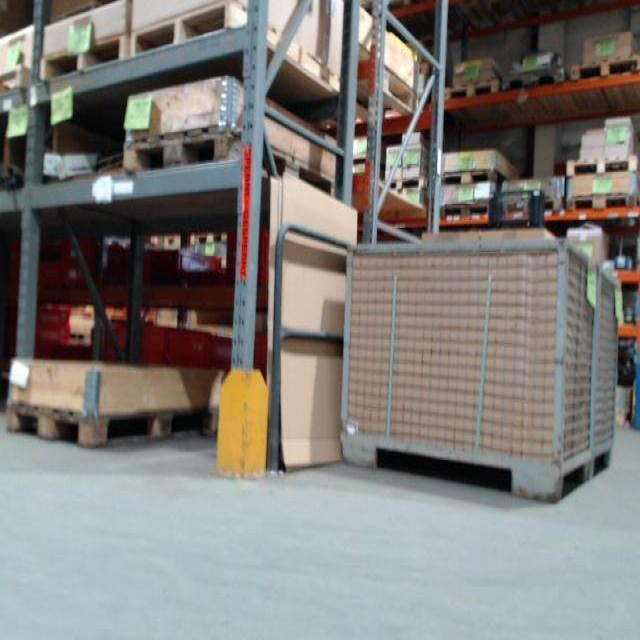pallet: (127, 0, 339, 93), (127, 125, 335, 200), (2, 397, 216, 446), (38, 32, 134, 79), (569, 52, 640, 82), (564, 153, 640, 180), (503, 64, 566, 92), (567, 192, 639, 213), (441, 164, 504, 188), (442, 77, 498, 103), (437, 199, 492, 219), (501, 198, 564, 215), (383, 174, 428, 190), (193, 232, 228, 245)
stillage: (339, 226, 623, 504)
